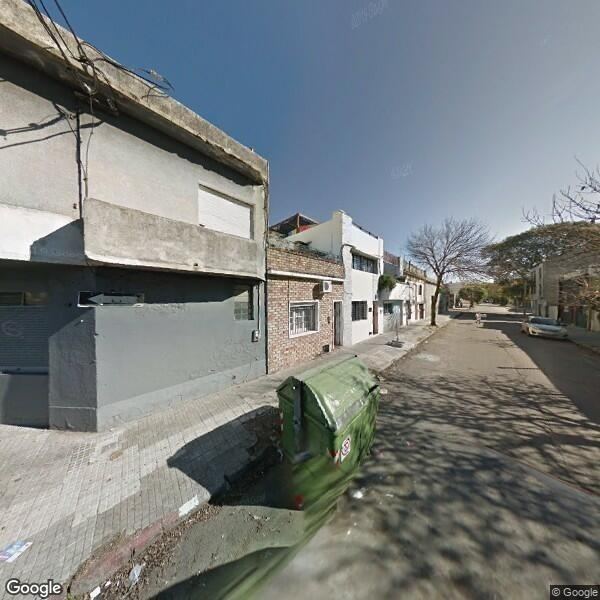Trash: (276, 350, 379, 502)
